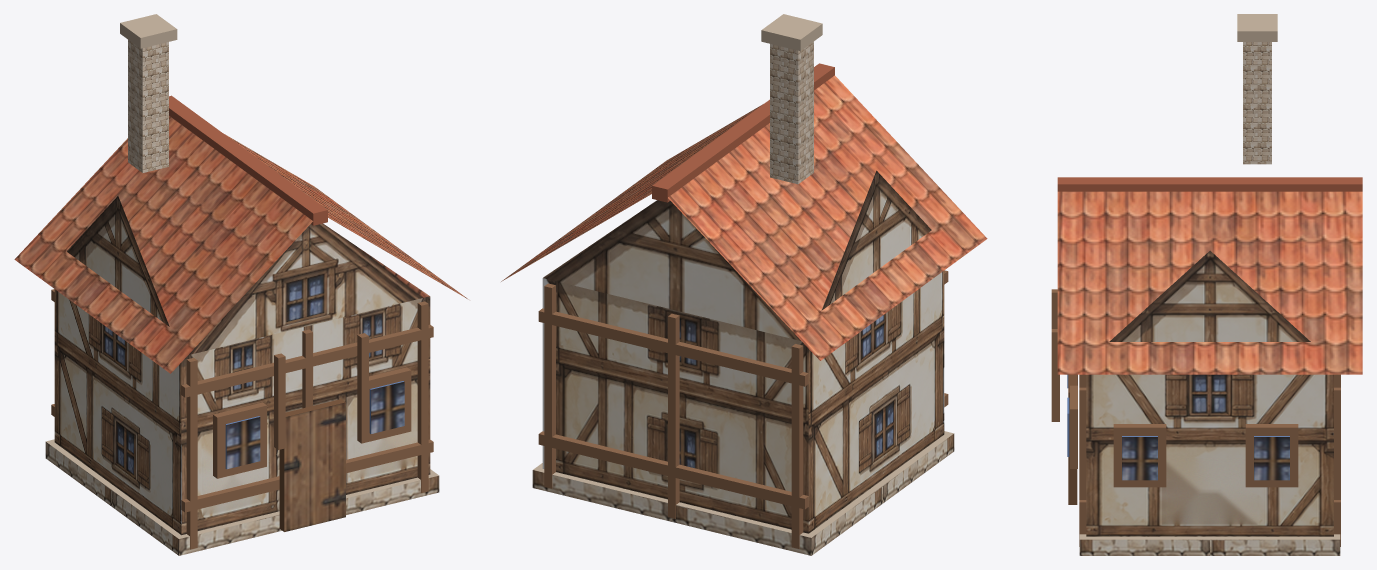
File: cottage_hut.glb
The picture shows the model from 3 angles, left to right: view 1: azimuth 30°, elevation 25°; view 2: azimuth 150°, elevation 25°; view 3: azimuth 270°, elevation 25°; orthographic projection. The views are drawn at different scales.
Parts seen in each view (by area): view 1: roof_front_slope, walls_front, walls_left, gable_front, front_door, stone_foundation, chimney, gable_left, timber_front_posts, roof_ridge_cap, window_frames_front, window_glass_front (+5 smaller); view 2: walls_back, roof_front_slope, walls_left, gable_back, stone_foundation, timber_back_posts, chimney, gable_left, timber_back_horizontal, timber_back_upper, roof_ridge_cap, roof_back_slope (+1 smaller); view 3: roof_back_slope, walls_right, gable_right, stone_foundation, roof_ridge_cap, window_frames_side, chimney, window_glass_side, chimney_cap, timber_front_posts, porch_posts, timber_back_posts (+2 smaller).
Part boxes in pixels (x1,y1,x2,y2): roof_front_slope: [14, 116, 312, 373]; walls_front: [181, 296, 430, 535]; walls_left: [54, 289, 181, 534]; gable_front: [189, 223, 429, 354]; front_door: [279, 399, 345, 531]; stone_foundation: [45, 439, 439, 555]; chimney: [128, 40, 168, 172]; gable_left: [67, 196, 169, 326]; timber_front_posts: [186, 301, 428, 549]; roof_ridge_cap: [169, 95, 327, 225]; window_frames_front: [213, 367, 411, 478]; window_glass_front: [225, 381, 404, 469]; walls_back: [542, 278, 808, 533]; roof_front_slope: [668, 75, 987, 360]; walls_left: [808, 271, 944, 533]; gable_back: [543, 200, 800, 340]; stone_foundation: [532, 431, 954, 555]; timber_back_posts: [544, 283, 803, 548]; chimney: [770, 41, 813, 184]; gable_left: [821, 170, 931, 310]; timber_back_horizontal: [538, 431, 808, 509]; timber_back_upper: [538, 308, 808, 386]; roof_ridge_cap: [652, 63, 834, 202]; roof_back_slope: [501, 104, 762, 281]; roof_back_slope: [1057, 191, 1362, 374]; walls_right: [1086, 374, 1333, 536]; gable_right: [1109, 250, 1310, 341]; stone_foundation: [1079, 534, 1340, 555]; roof_ridge_cap: [1057, 177, 1362, 191]; window_frames_side: [1113, 424, 1298, 487]; chimney: [1243, 42, 1271, 164]; window_glass_side: [1122, 436, 1289, 480]; chimney_cap: [1237, 14, 1277, 41]; timber_front_posts: [1079, 374, 1086, 546]; porch_posts: [1051, 289, 1059, 421]; timber_back_posts: [1334, 374, 1340, 546].
Bounding box in the file's own units: 4.1 × 5.86 × 4.2.
1 material, 1 textured.
